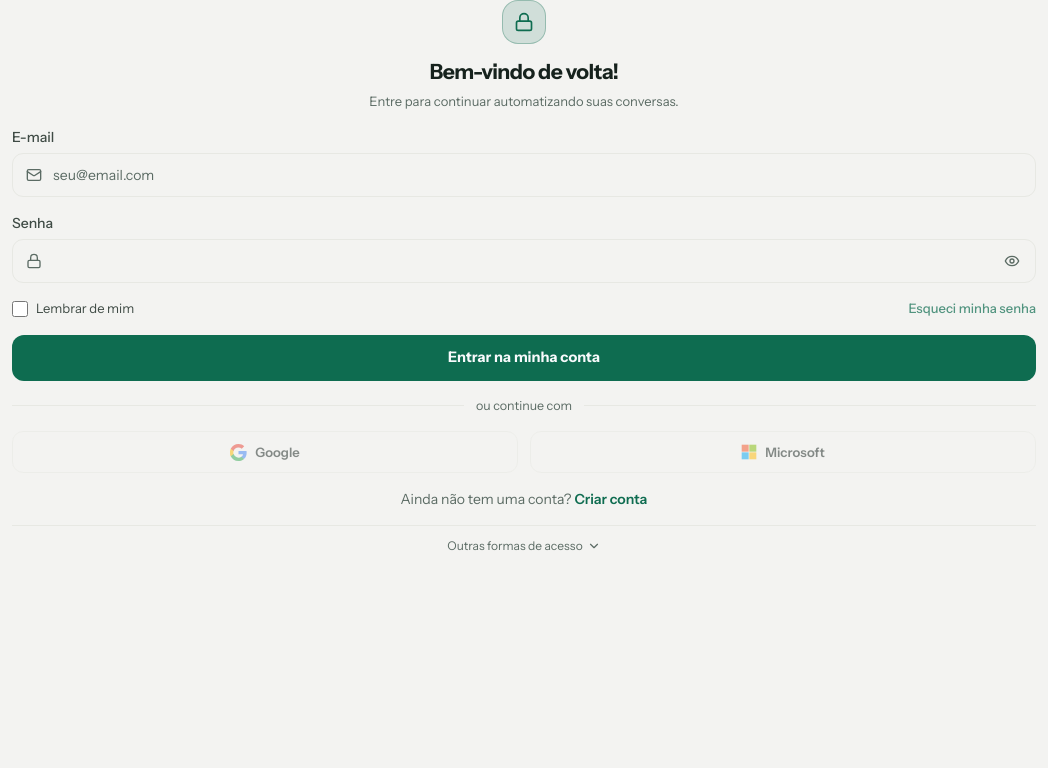
Test: LoginForm (Milestone 6, Bloco M6F) › revela e ativa o modo API Key via "Outras formas de acesso"
The image size is (1048, 768).
Expected: the field labelled "API Key" is not shown
Click the button "Outras formas de acesso" at (524, 546), box [12,538,1036,554]
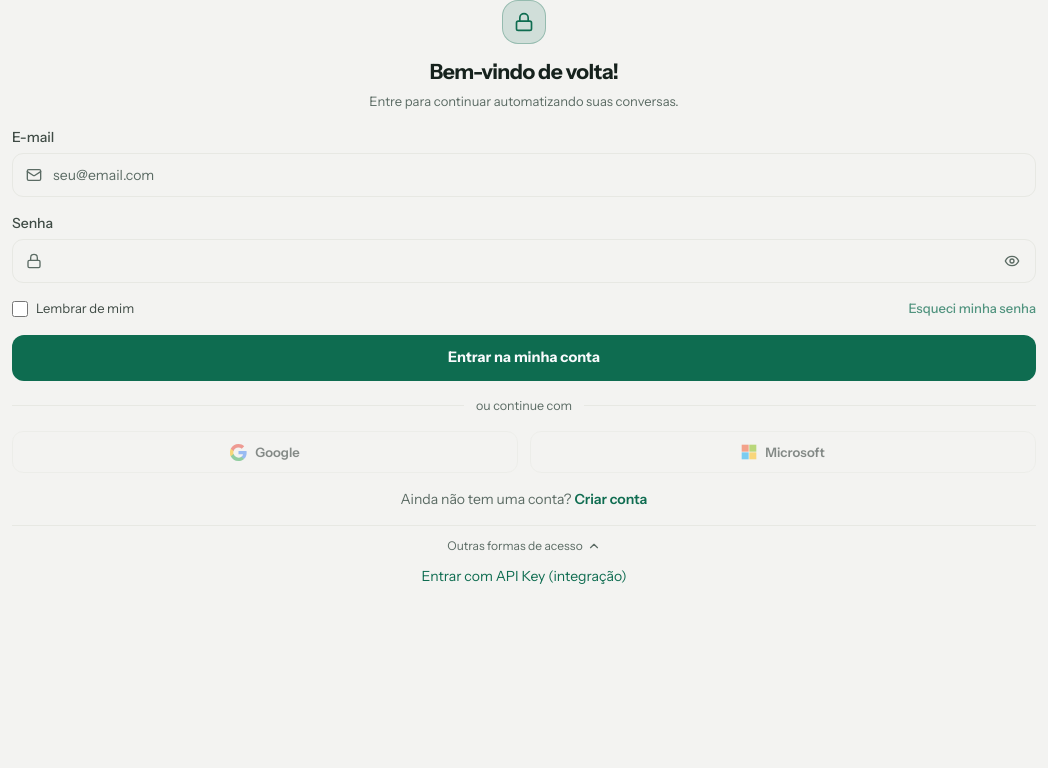
Click the button "Entrar com API Key (integração)" at (524, 576), box [421,566,627,586]
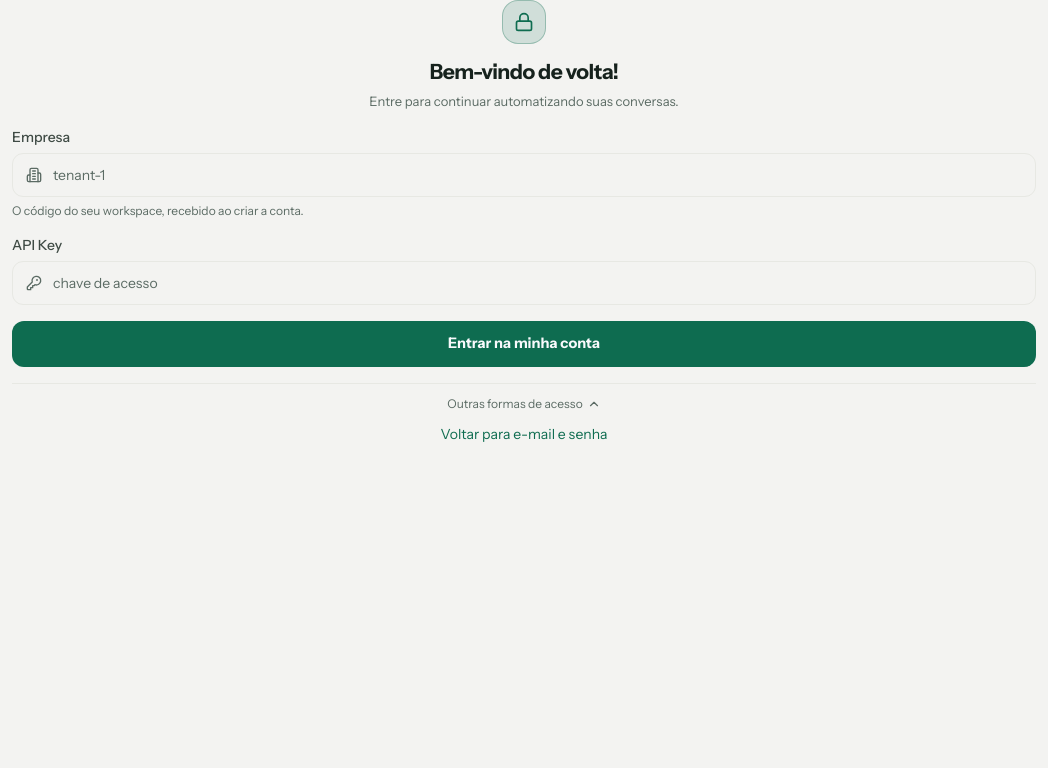
Result: the password field labelled "API Key" is shown at [12,261,1036,305]
